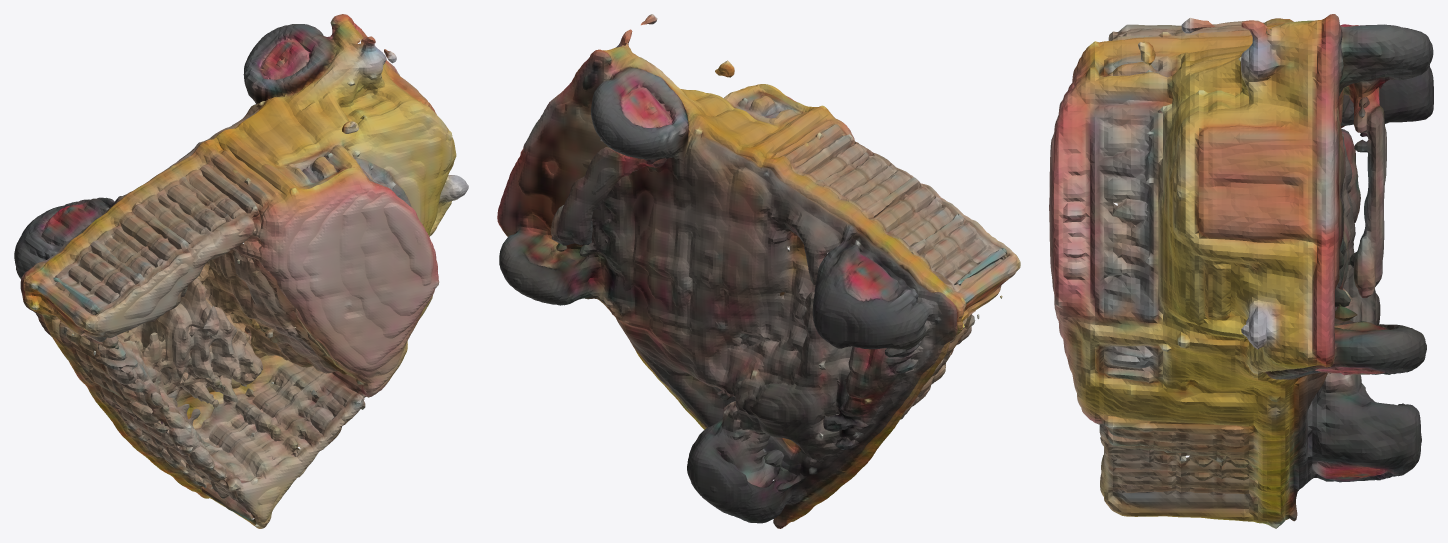
File: 000013_mercedes benz_type l311_truck.glb
3 renders of one model, left to right at view 1: azimuth 30°, elevation 25°; view 2: azimuth 150°, elevation 25°; view 3: azimuth 270°, elevation 25°, orthographic. The views are drawn at different scales.
Parts seen in each view (by area): view 1: world; view 2: world; view 3: world.
Part boxes in pixels (x1,y1,x2,y2): world: (14,14,468,528); world: (497,14,1020,528); world: (1049,14,1433,528).
Size of the model in its own units: 1.08 by 1.03 by 0.5795.
